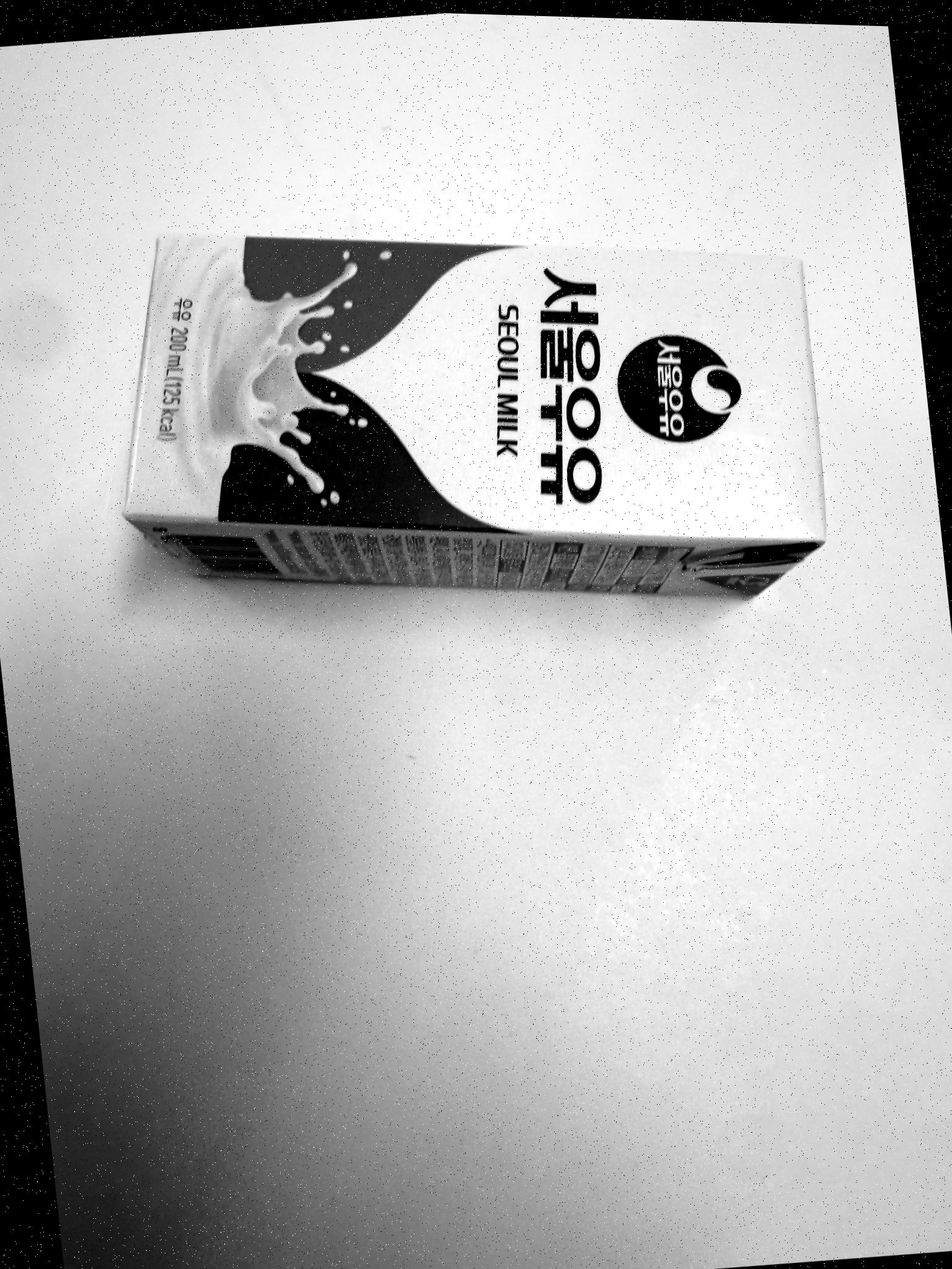milk_green: (125, 232, 824, 602)
